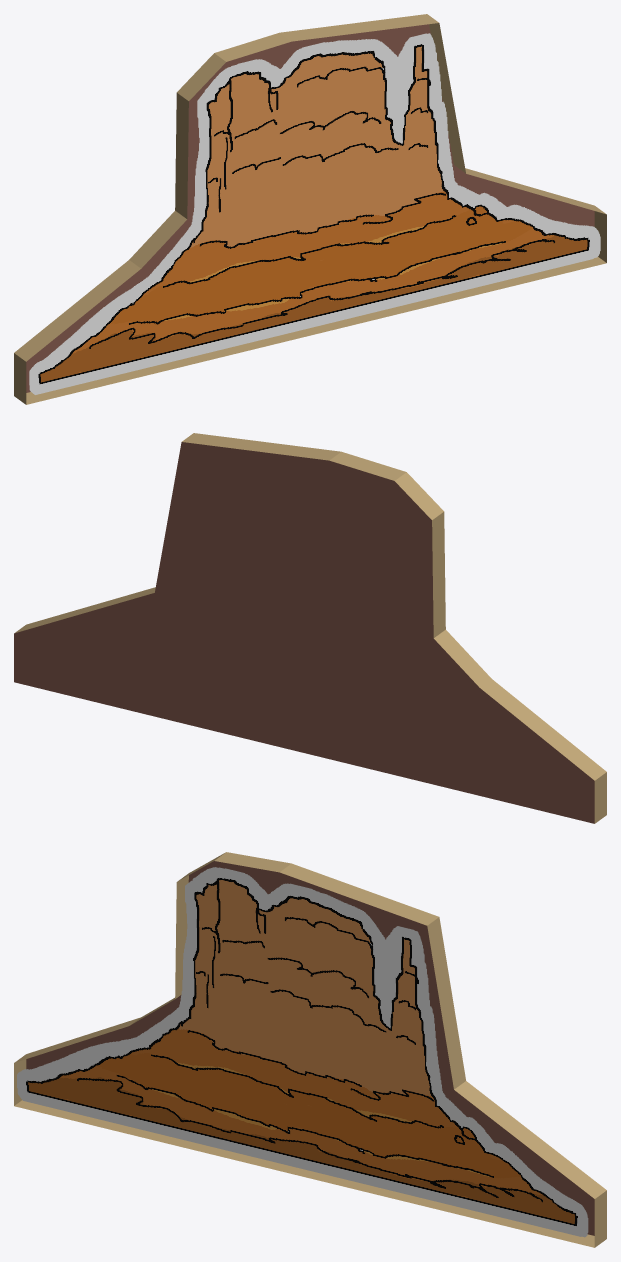
Rendered from MonumentValley_001.fbx.
3 renders of one model, top to bottom at view 1: azimuth 30°, elevation 25°; view 2: azimuth 150°, elevation 25°; view 3: azimuth 330°, elevation 25°, orthographic.
Visible parts, largest first — view 1: Plane; view 2: Plane; view 3: Plane.
Part boxes in pixels (box(x1,y1,x2,y2)): Plane: box(14, 14, 606, 404); Plane: box(14, 433, 606, 823); Plane: box(14, 852, 606, 1247).
Size of the model in its own units: 5.09 by 2.5 by 0.1851.
3 materials, 3 textured.
